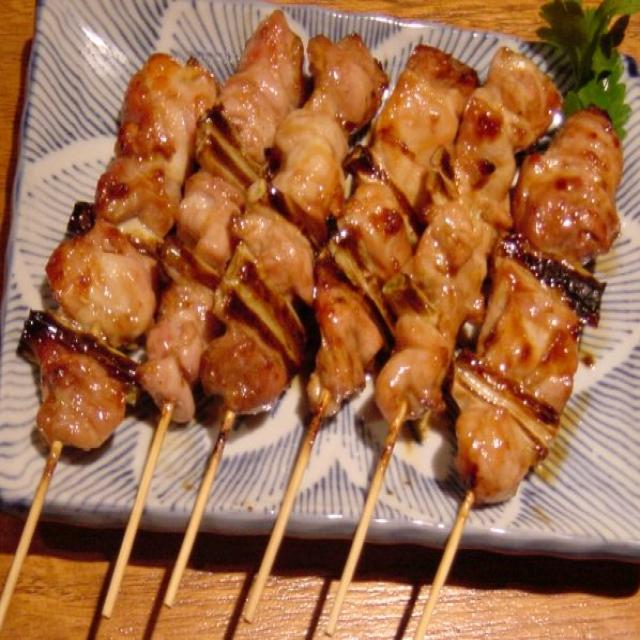烧串烤肉: (0, 0, 618, 616)
